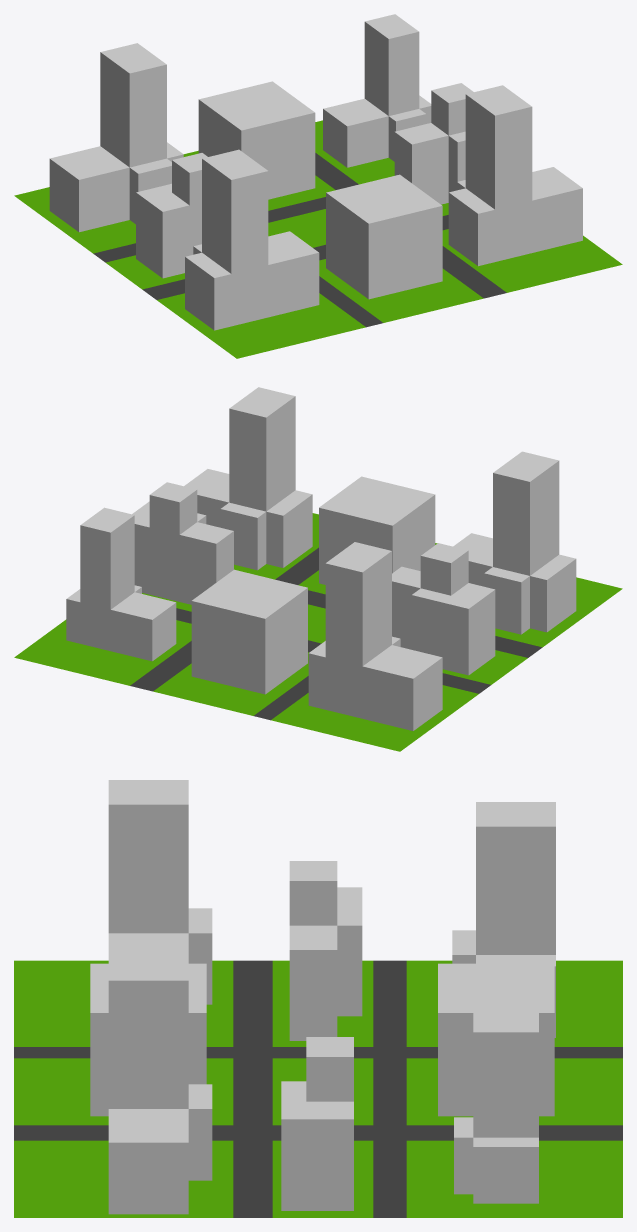
The model's file is Lernraumumgebung_Prototype.glb.
3 views of the same model, one above another, from view 1: azimuth 30°, elevation 25°; view 2: azimuth 150°, elevation 25°; view 3: azimuth 270°, elevation 25° (orthographic). The views are drawn at different scales.
Parts seen in each view (by area): view 1: Grid, Cube.005, Cube.001, Cube.004, Cube, Cube.002, Cube.003, Cube.007, Cube.006; view 2: Grid, Cube.004, Cube.005, Cube.001, Cube.003, Cube.002, Cube.007, Cube.006, Cube; view 3: Grid, Cube.005, Cube.001, Cube.002, Cube.004, Cube.007, Cube.006, Cube.003, Cube.
Boxes of the visible parts, <box> form: Grid: <box>14,120,622,358</box>; Cube.005: <box>448,85,582,266</box>; Cube.001: <box>185,149,319,330</box>; Cube.004: <box>49,43,183,232</box>; Cube: <box>326,174,442,299</box>; Cube.002: <box>323,14,431,167</box>; Cube.003: <box>198,81,315,199</box>; Cube.007: <box>136,153,207,278</box>; Cube.006: <box>394,83,473,204</box>; Grid: <box>14,513,622,751</box>; Cube.004: <box>308,542,442,730</box>; Cube.005: <box>184,387,312,570</box>; Cube.001: <box>453,451,576,634</box>; Cube.003: <box>191,569,307,694</box>; Cube.002: <box>66,507,176,661</box>; Cube.007: <box>392,543,495,675</box>; Cube.006: <box>132,482,233,604</box>; Cube: <box>319,476,435,584</box>; Grid: <box>14,960,622,1217</box>; Cube.005: <box>108,955,212,1214</box>; Cube.001: <box>108,780,212,1004</box>; Cube.002: <box>454,1012,538,1203</box>; Cube.004: <box>452,802,555,1037</box>; Cube.007: <box>289,861,362,1040</box>; Cube.006: <box>281,1037,353,1210</box>; Cube.003: <box>438,963,554,1116</box>; Cube: <box>90,963,206,1116</box>.
Size of the model in its own units: 200 by 73.56 by 200.
